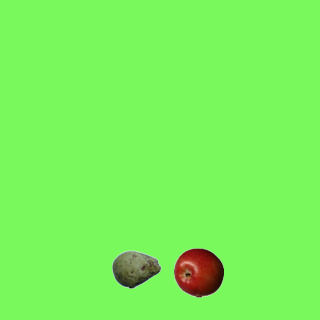Apple Braeburn: (173, 247, 223, 297)
Pear Stone: (111, 244, 161, 294)
